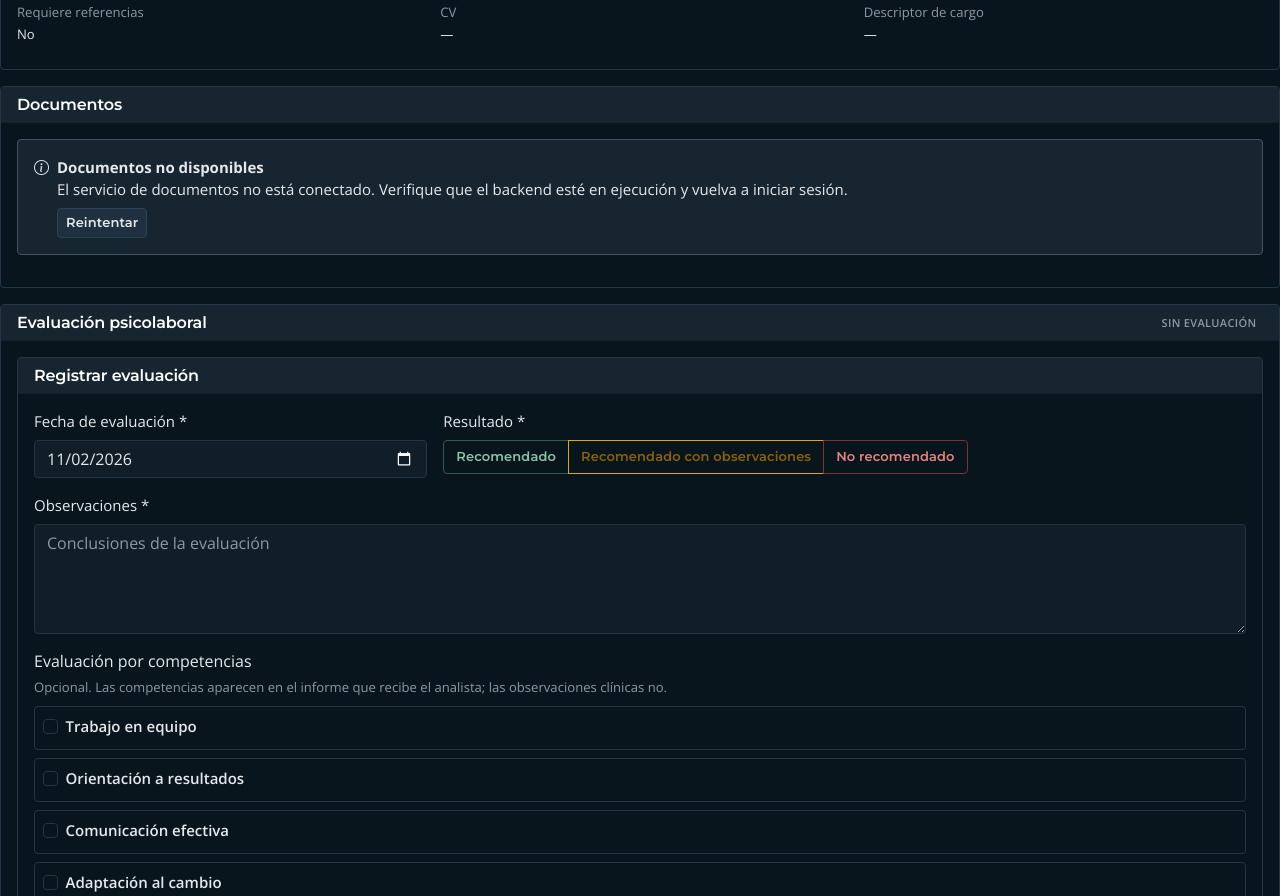
Test case: DetalleSolicitud › informe en la carpeta de la solicitud › registra la evaluación aunque el servicio de documentos no esté conectado
(page scrolled)
Click the radio button labelled "Recomendado". click: [450, 446]
box: [443, 440, 456, 453]
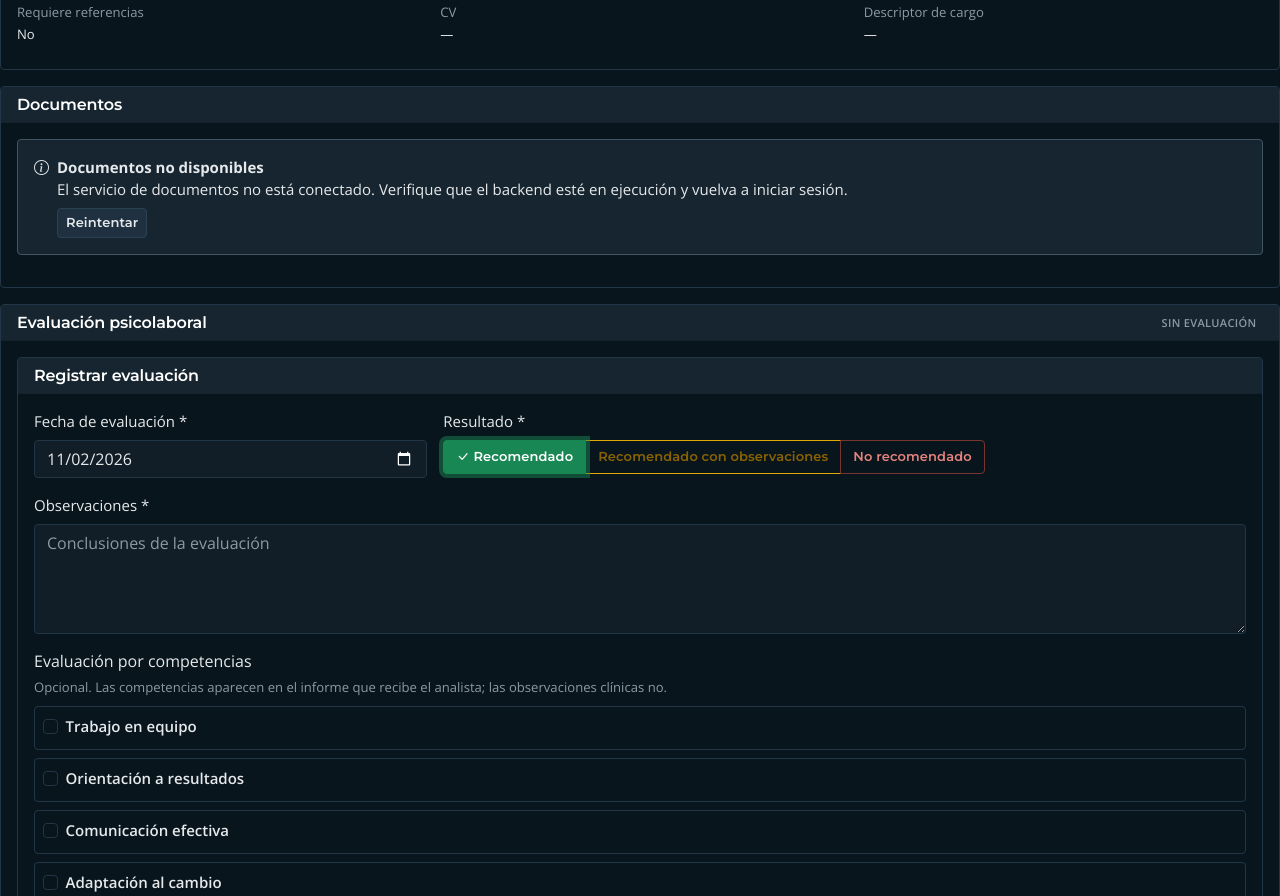
Type "Nota clínica reservada." into the text box labelled "Observaciones *". click: [640, 579]
box: [34, 524, 1246, 634]
(page scrolled)
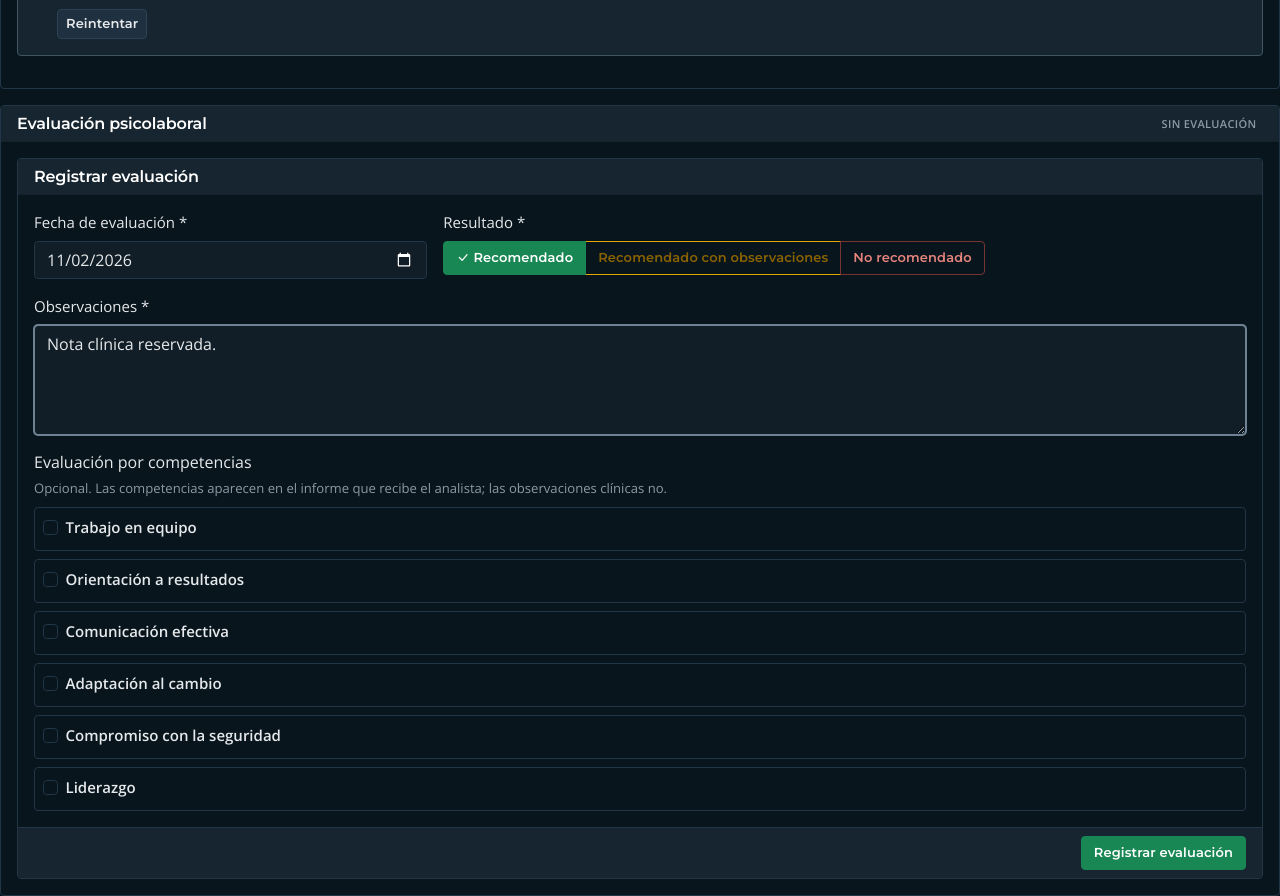
Click the button "Registrar evaluación". click: [1163, 853]
box: [1081, 836, 1246, 870]
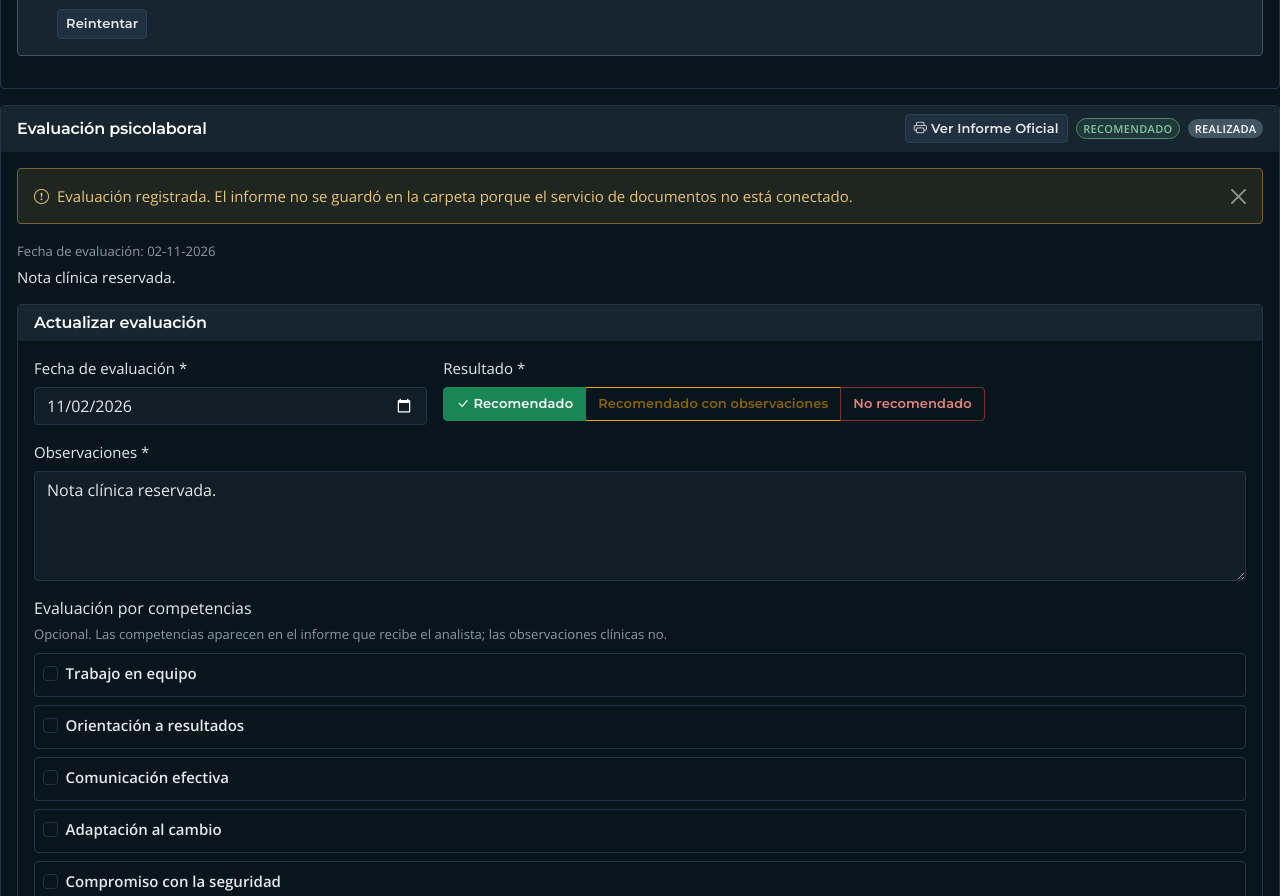
Result: the text "El informe no se guardó en la carpeta" is shown at [57, 186, 853, 206]
